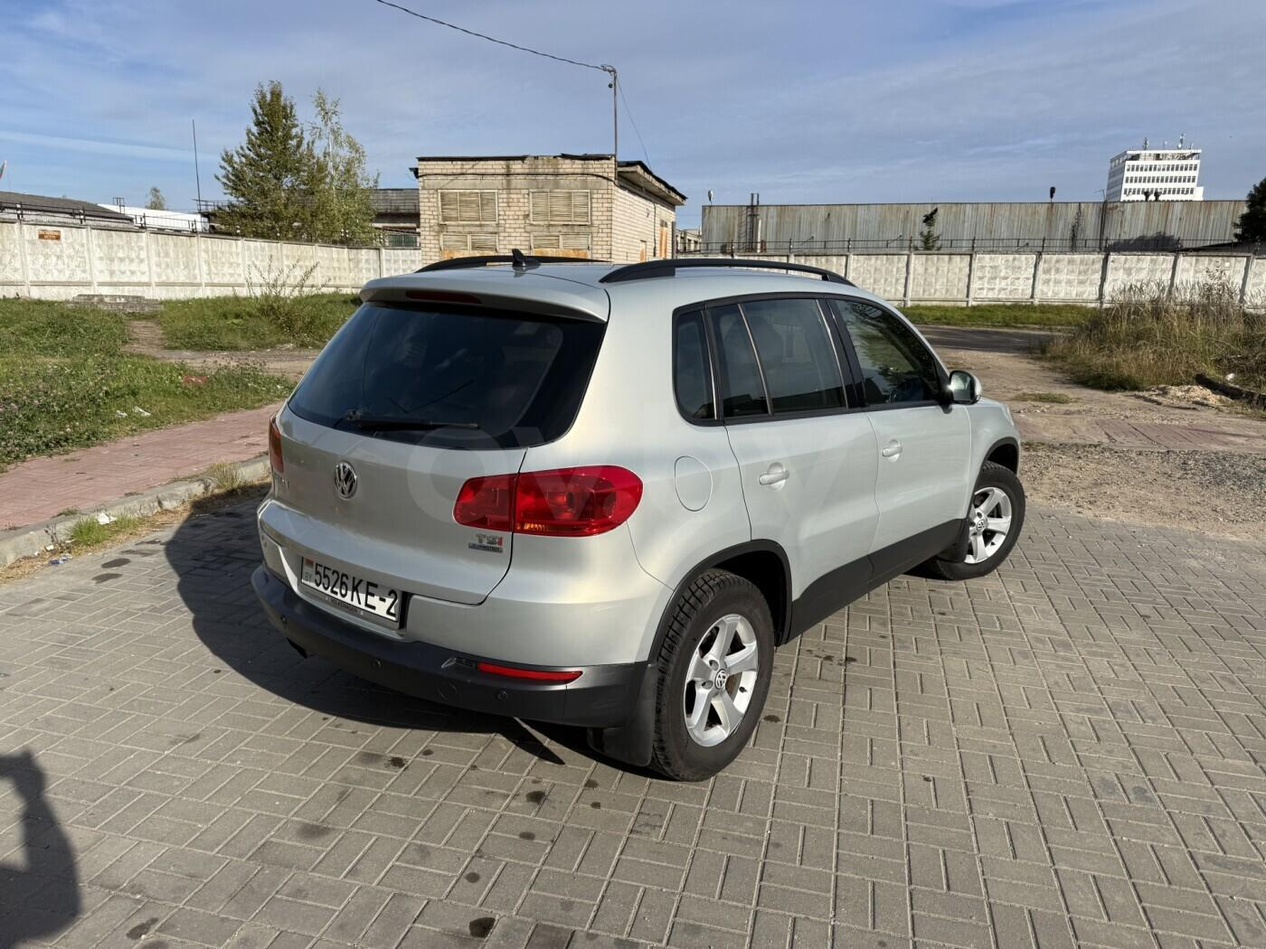Tiguan_2011-2018: (249, 257, 1028, 779)
